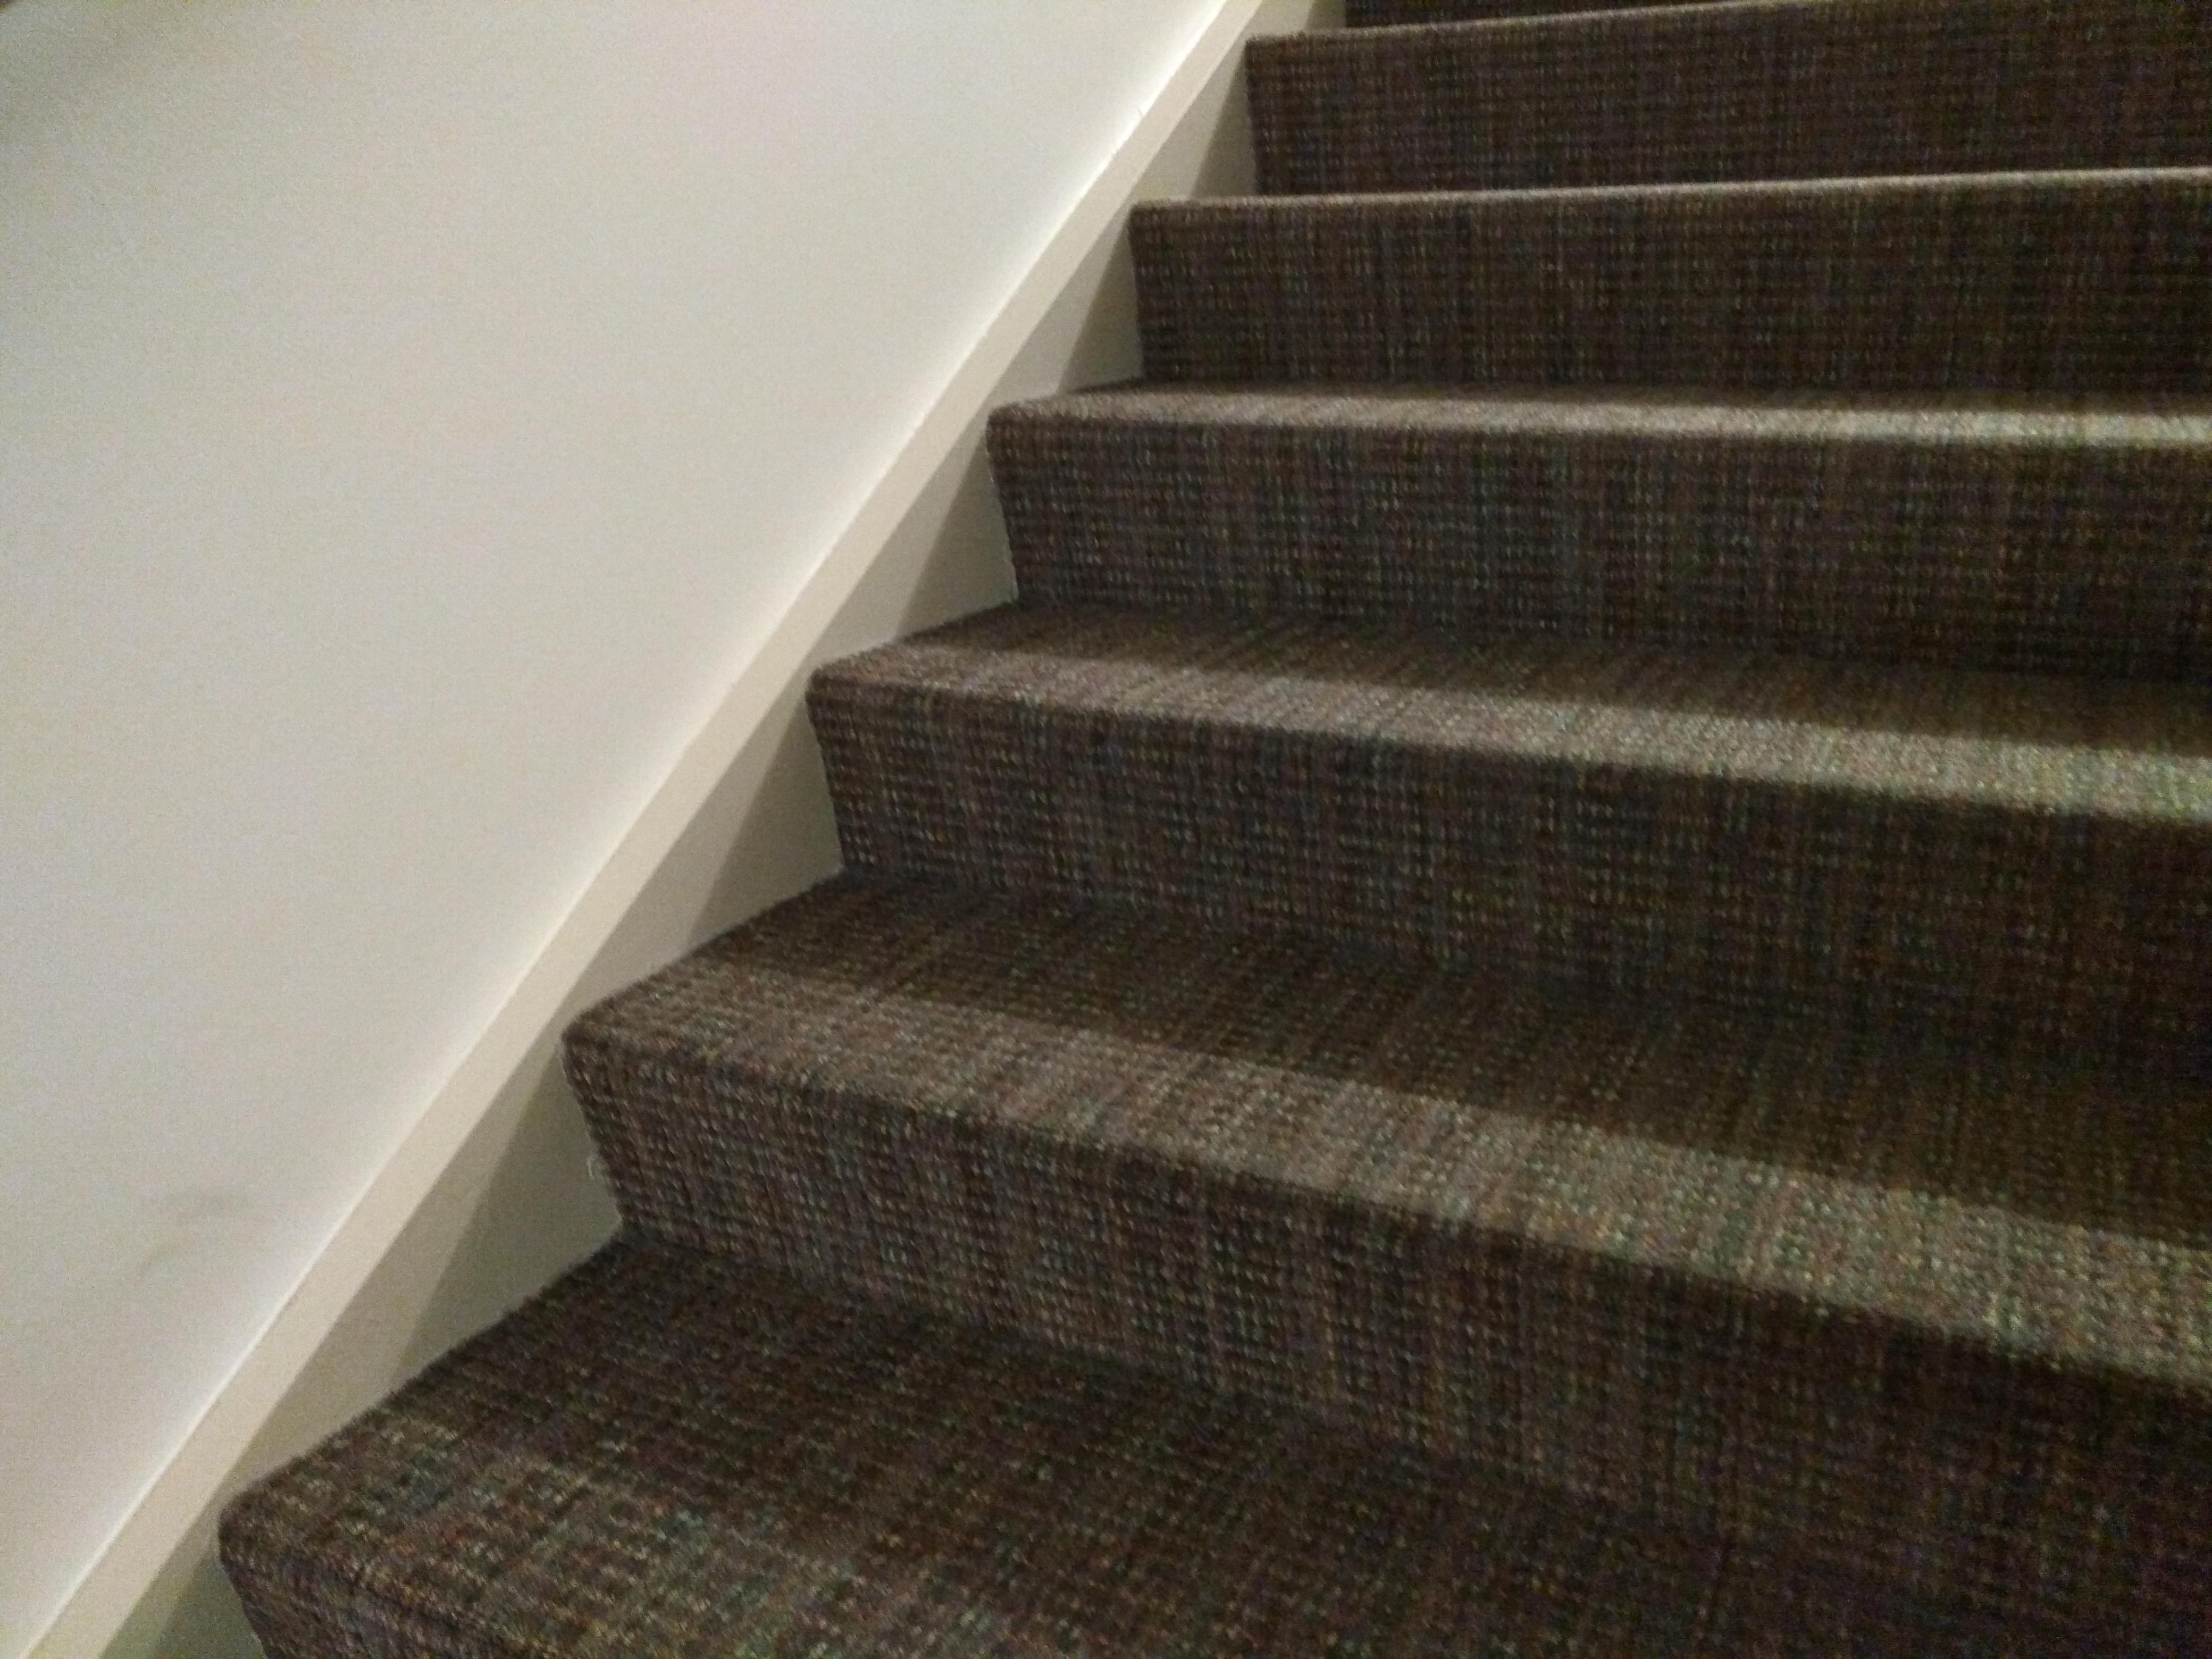stairs_up: (197, 7, 2200, 1659)
